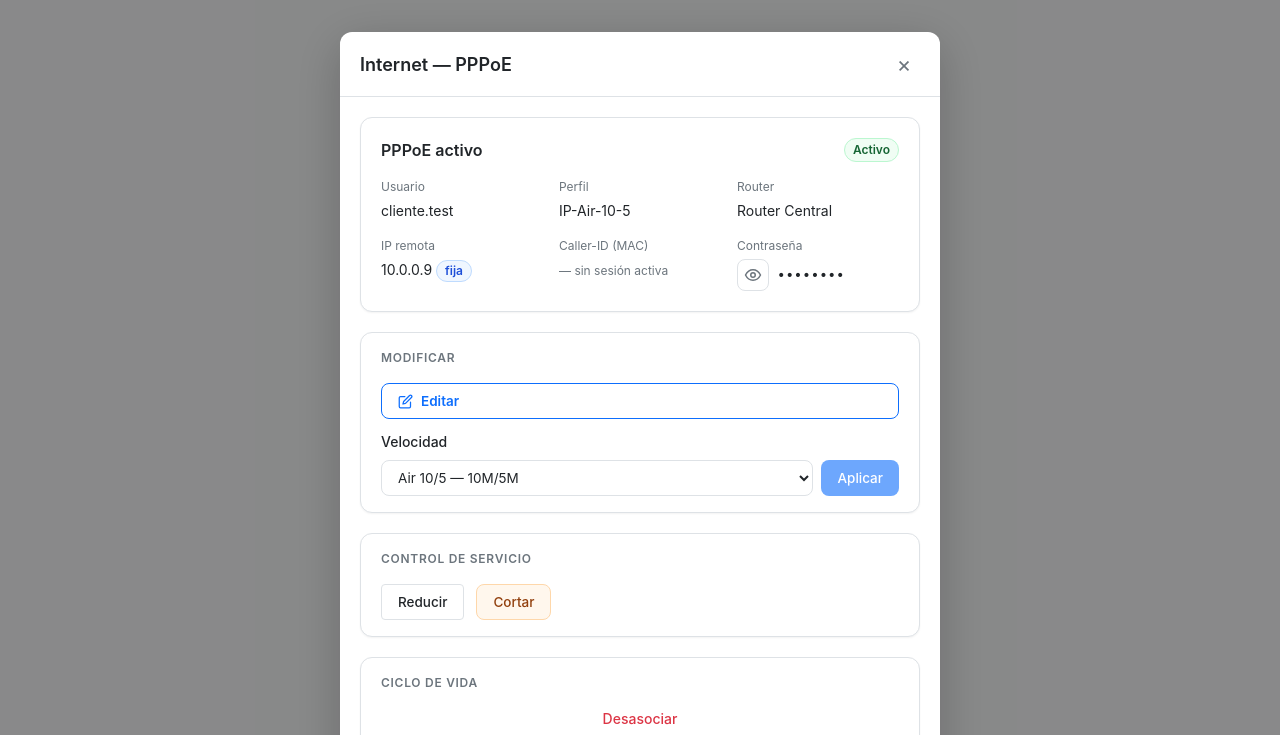
Scenario: EP-5: auto-asignación rellena la IP del form de edición › click en Auto-asignar IP (con tipo seleccionado) rellena la IP remota
Click the button "Editar": {"x": 440, "y": 401} [381,383,899,419]
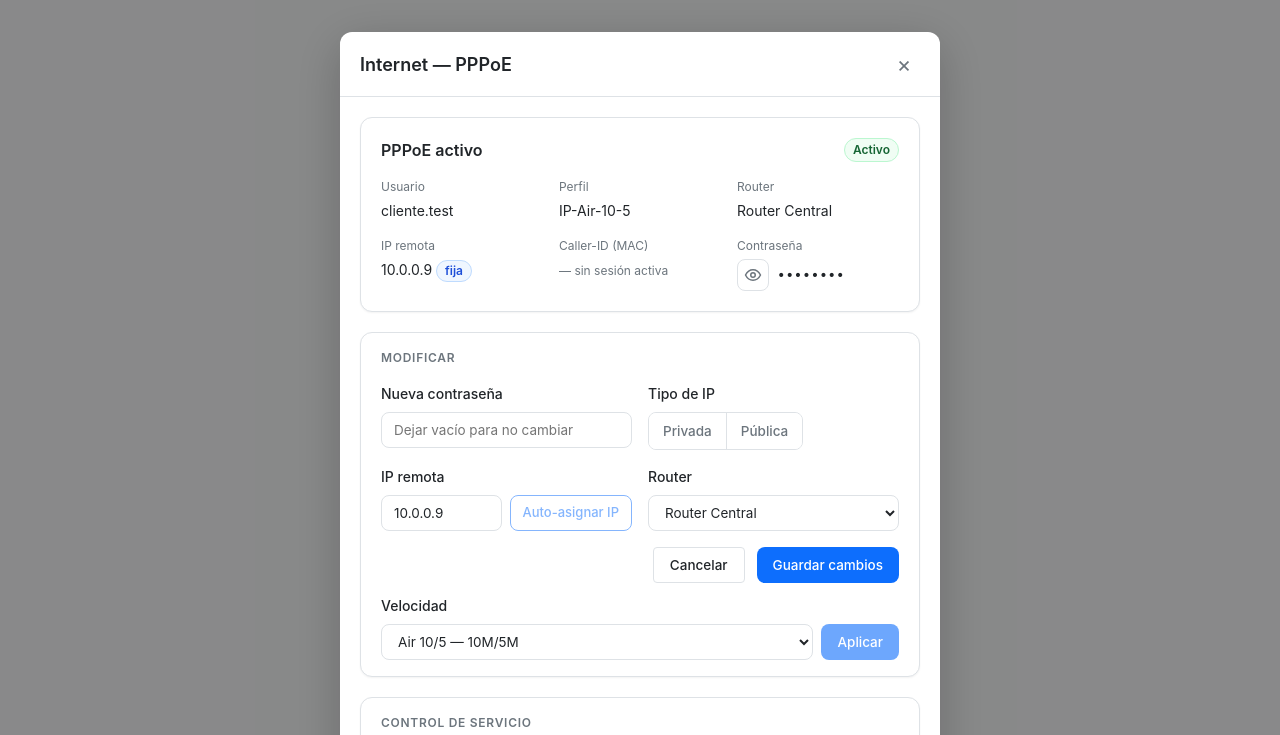
Click the button "Privada": {"x": 688, "y": 431} [649,413,727,449]
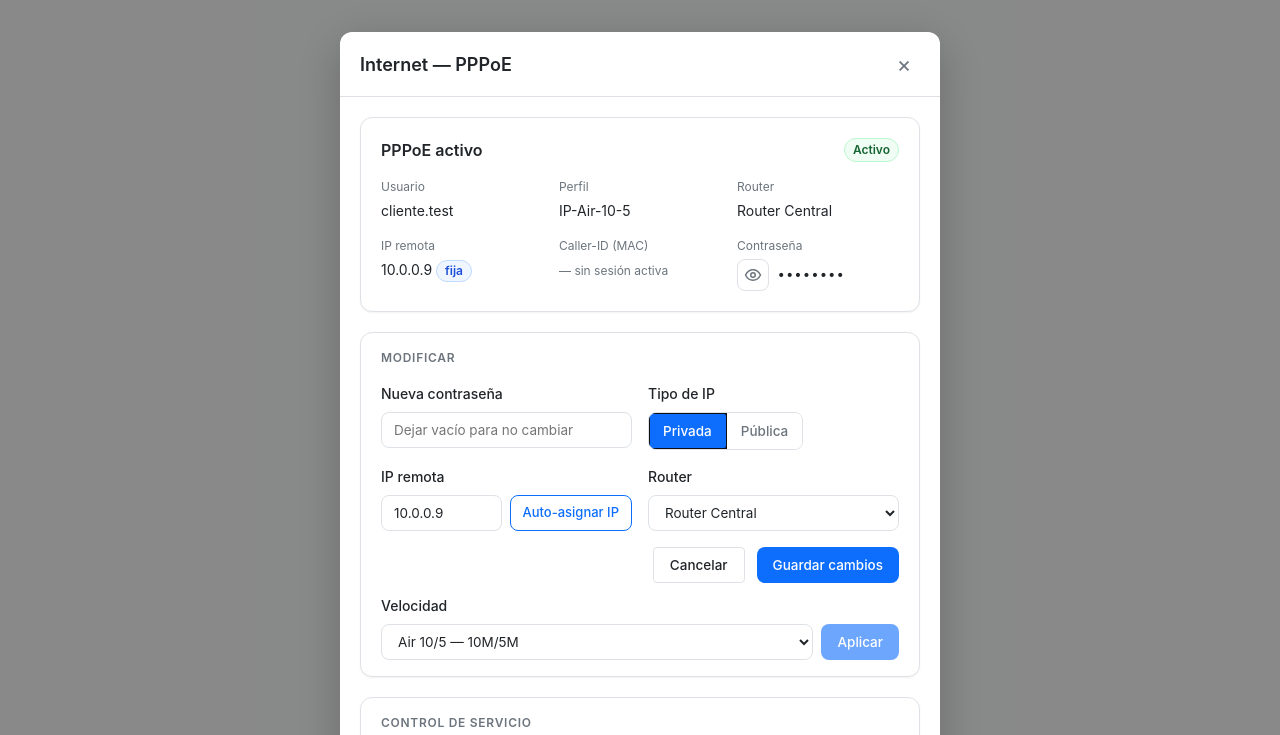
Click the button "Auto-asignar IP": {"x": 571, "y": 513} [510,495,632,531]
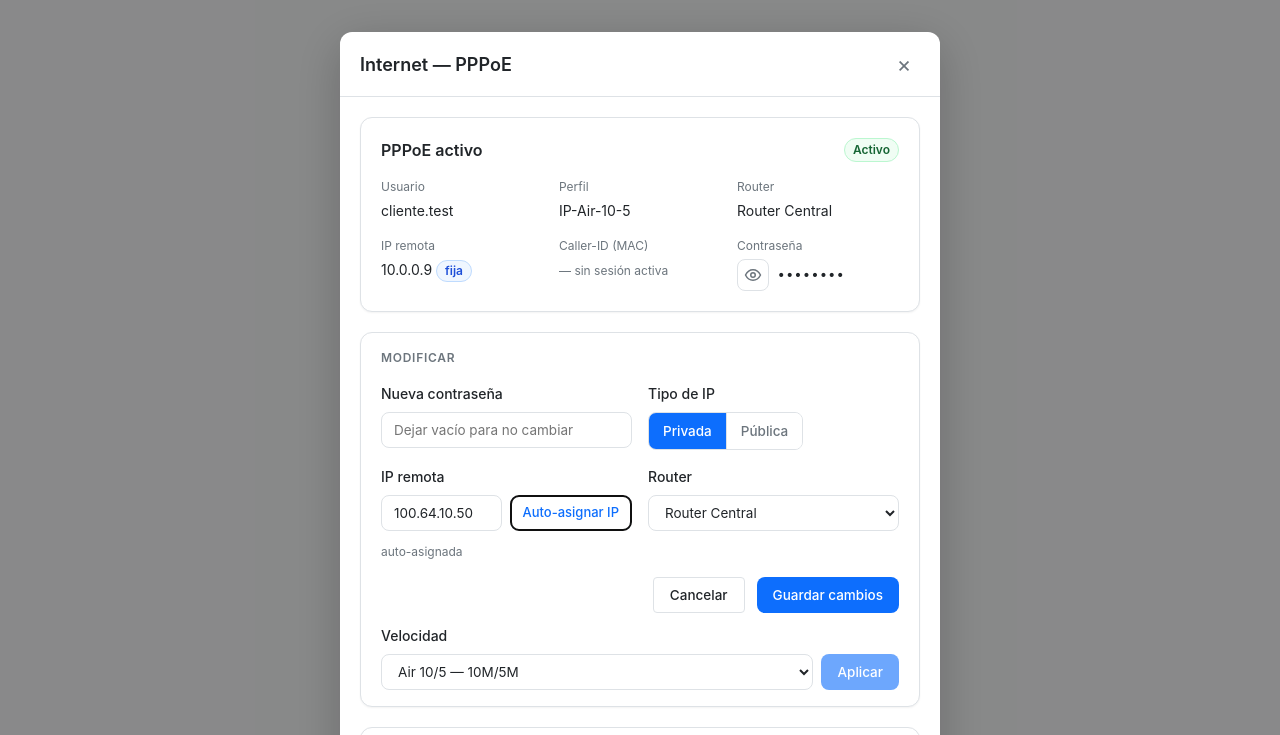
Check: the field labelled "IP remota" holds "100.64.10.50", box [381,495,502,531]
